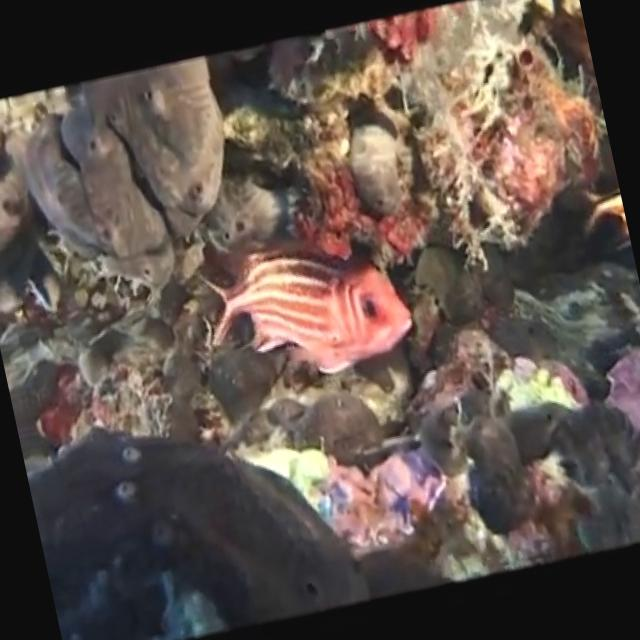Asker Baligi: (191, 221, 421, 399)
